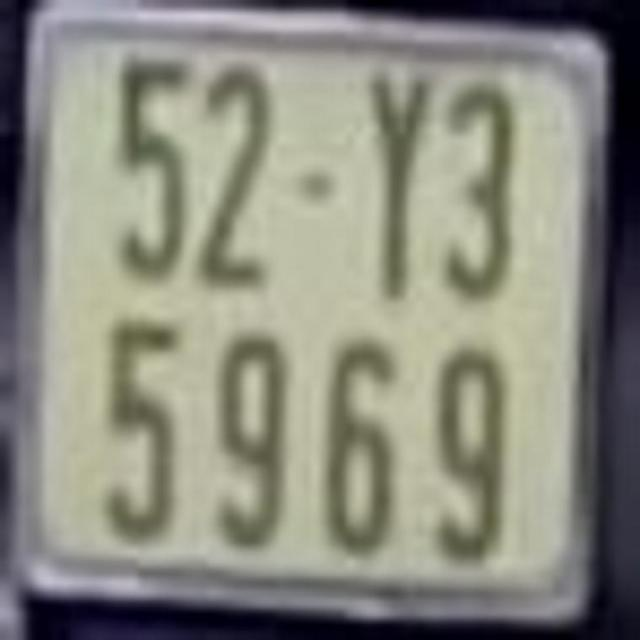2: (201, 76, 271, 292)
3: (443, 81, 516, 313)
5: (108, 314, 178, 541), (118, 56, 183, 277)
6: (337, 338, 394, 553)
9: (437, 345, 504, 560), (218, 330, 282, 549)
Y: (368, 69, 428, 306)
